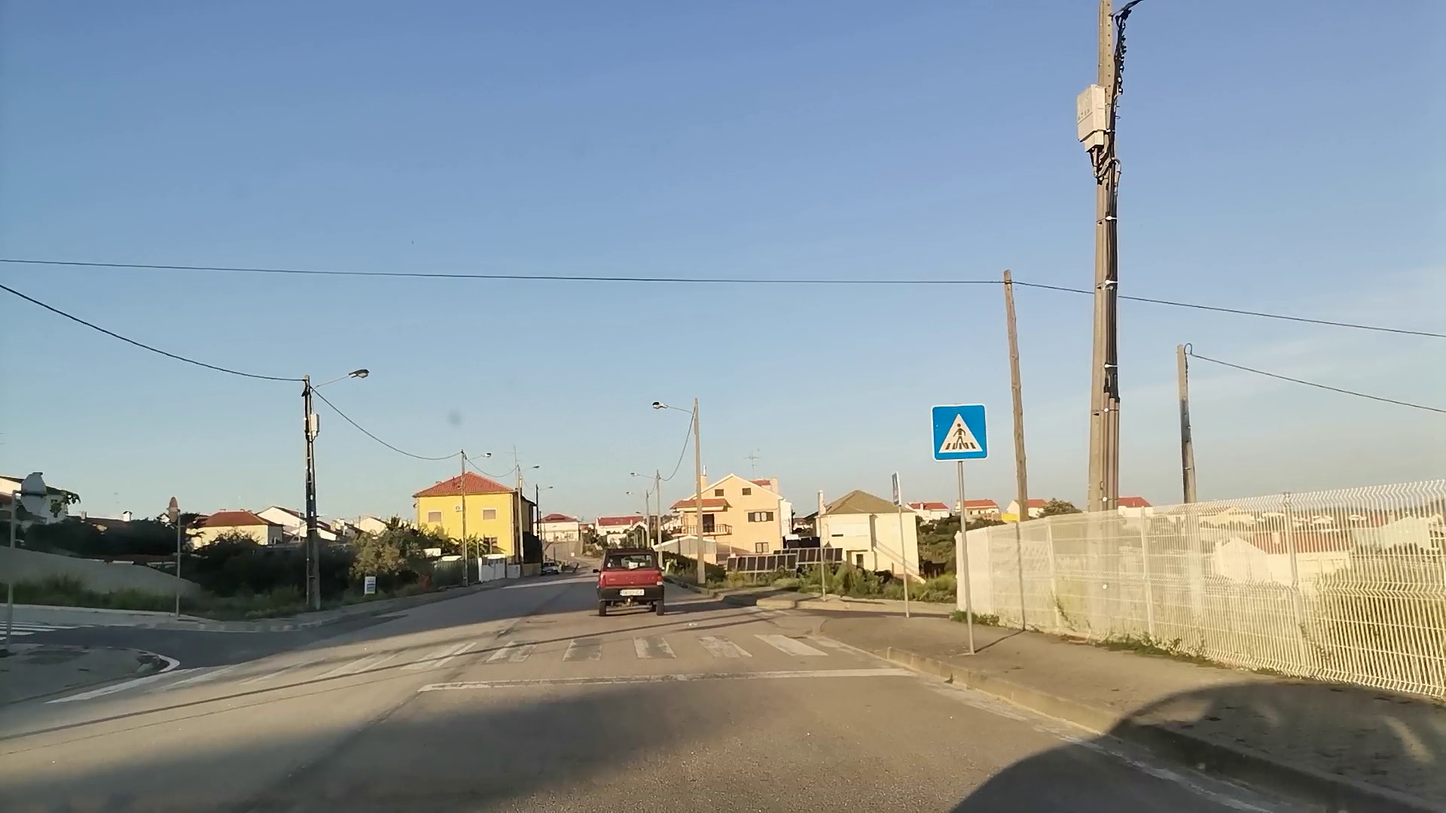Stairs: (413, 631, 916, 695)
